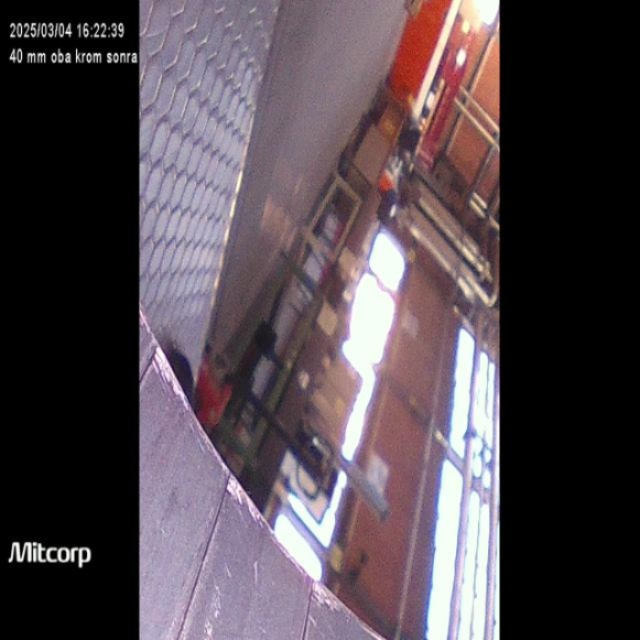hata_7.2: (143, 325, 267, 543), (265, 533, 346, 625)
